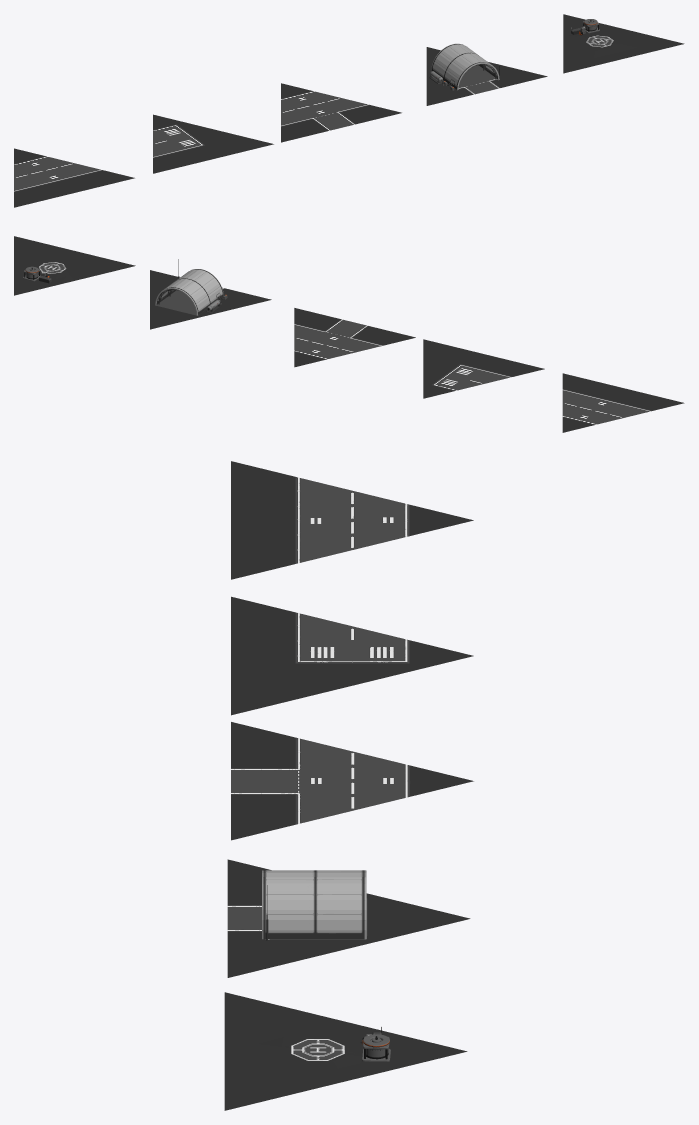
The model's file is tile_set_runway.fbx.
3 views of the same model, one above another, from view 1: azimuth 30°, elevation 25°; view 2: azimuth 150°, elevation 25°; view 3: azimuth 270°, elevation 25° (orthographic). The views are drawn at different scales.
Visible parts, largest first — view 1: tile_runway_hanger, tile_runway_helipad, tile_runway_junc, tile_runway_mid, tile_runway_end; view 2: tile_runway_hanger, tile_runway_mid, tile_runway_junc, tile_runway_end, tile_runway_helipad; view 3: tile_runway_hanger, tile_runway_helipad, tile_runway_junc, tile_runway_end, tile_runway_mid.
Part boxes in pixels (x1,y1,x2,y2): tile_runway_hanger: (426, 43, 547, 105); tile_runway_helipad: (563, 14, 684, 73); tile_runway_junc: (281, 83, 401, 142); tile_runway_mid: (14, 148, 134, 207); tile_runway_end: (153, 114, 273, 173); tile_runway_hanger: (150, 259, 271, 329); tile_runway_mid: (562, 373, 684, 432); tile_runway_junc: (294, 308, 415, 367); tile_runway_end: (423, 339, 544, 398); tile_runway_helipad: (14, 236, 135, 295); tile_runway_hanger: (227, 859, 470, 977); tile_runway_helipad: (224, 992, 467, 1110); tile_runway_junc: (231, 722, 473, 840); tile_runway_end: (231, 596, 473, 715); tile_runway_mid: (231, 461, 473, 579).
Bounding box in the file's own units: 6603 × 277 × 1067.
Materials: 5 (5 with a texture image).
